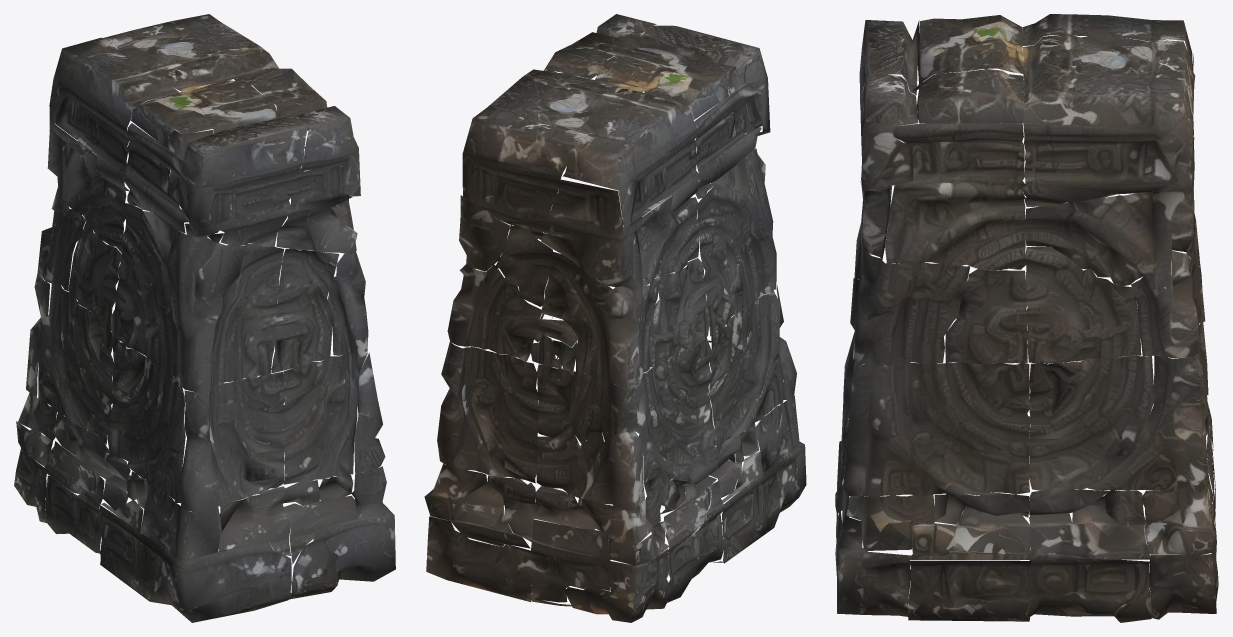
File: ruin_pillar_vaelor_LOD2.glb
The picture shows the model from 3 angles, left to right: view 1: azimuth 30°, elevation 25°; view 2: azimuth 150°, elevation 25°; view 3: azimuth 270°, elevation 25°; orthographic projection. The views are drawn at different scales.
Visible parts, largest first — view 1: tripo_node_f299f018-ef50-4f2a-830b-34e6a2a2bba3; view 2: tripo_node_f299f018-ef50-4f2a-830b-34e6a2a2bba3; view 3: tripo_node_f299f018-ef50-4f2a-830b-34e6a2a2bba3.
Boxes of the visible parts, <box> form: tripo_node_f299f018-ef50-4f2a-830b-34e6a2a2bba3: <box>14,14,395,622</box>; tripo_node_f299f018-ef50-4f2a-830b-34e6a2a2bba3: <box>424,14,806,622</box>; tripo_node_f299f018-ef50-4f2a-830b-34e6a2a2bba3: <box>835,14,1218,622</box>.
Bounding box in the file's own units: 0.4892 × 1 × 0.6728.
Materials: 1 (1 with a texture image).
